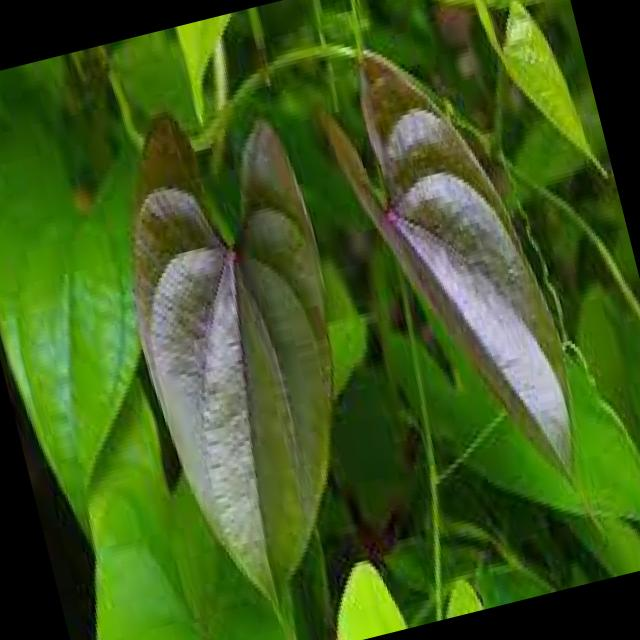Yam: (358, 0, 640, 601), (310, 55, 614, 521), (105, 119, 373, 546), (0, 88, 246, 511), (58, 397, 360, 640)
